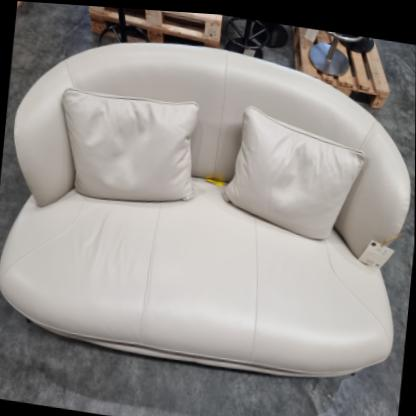Sofa: (0, 13, 416, 398)
